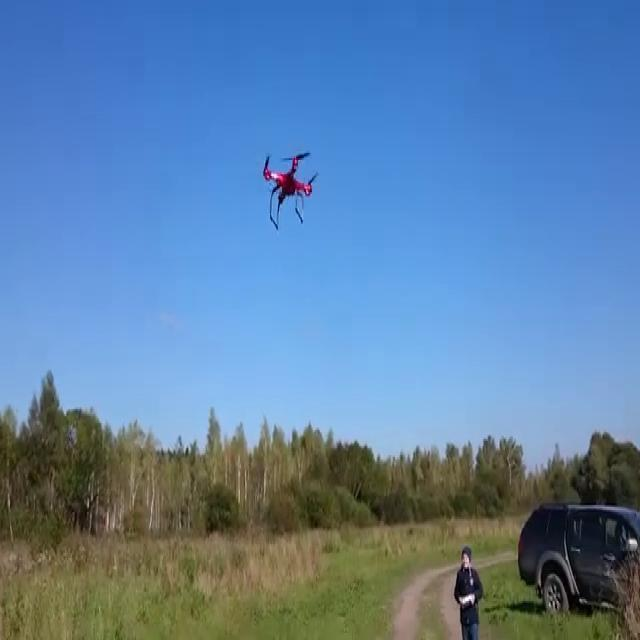Drons: (255, 148, 323, 235)
